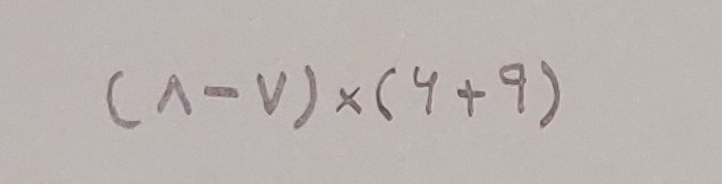character: (106, 70, 143, 129), (294, 65, 319, 130), (157, 73, 194, 114), (539, 60, 561, 127), (499, 62, 527, 113), (258, 70, 290, 114), (413, 66, 439, 116), (376, 67, 396, 119), (457, 79, 485, 116), (336, 86, 363, 113), (204, 86, 241, 100)
